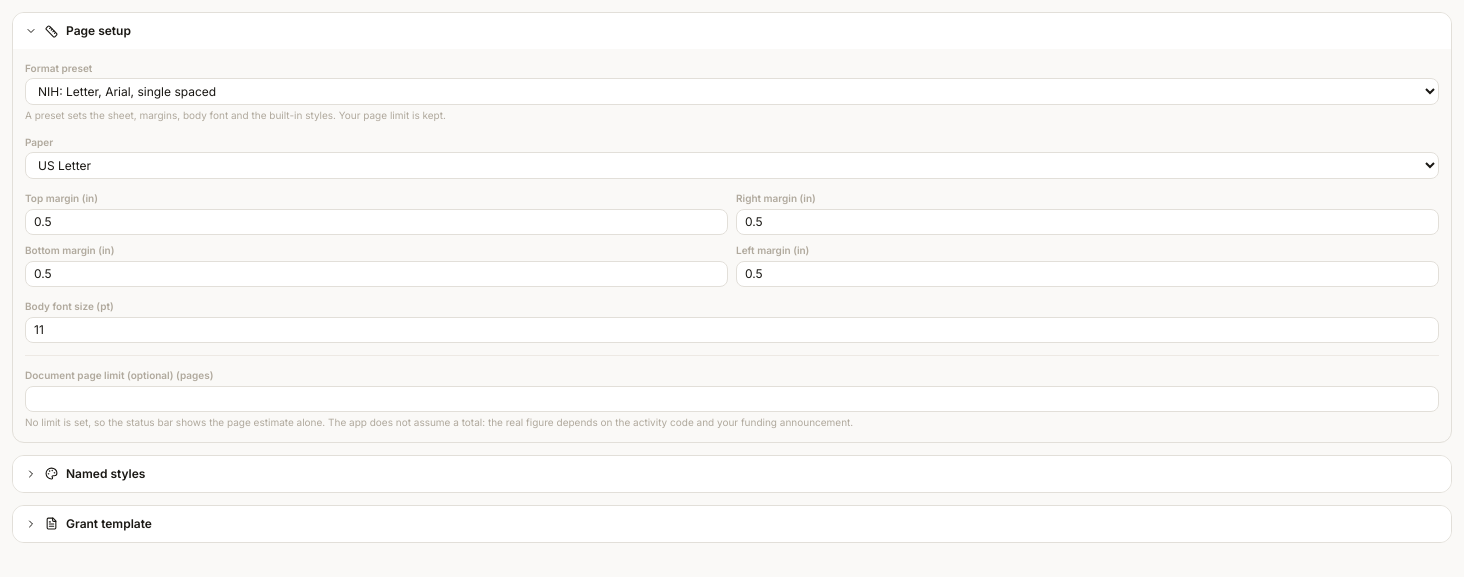
Scenario: FormatPanel › margins and font sizes › puts the committed value back when the box is left with a rejected draft
Replace the text in the number field with test id "control-margin-top" with "-1" at x=376, y=222, box [25,209,728,235]
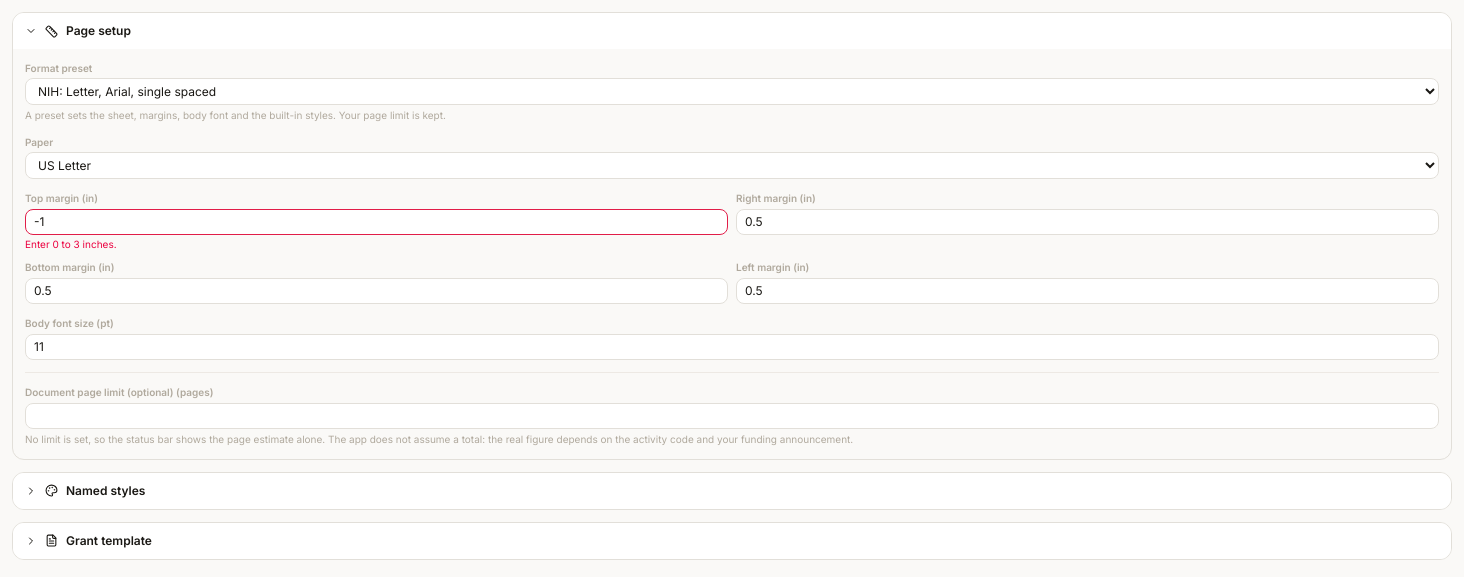
Leave the number field with test id "control-margin-top", box [25,209,728,235]
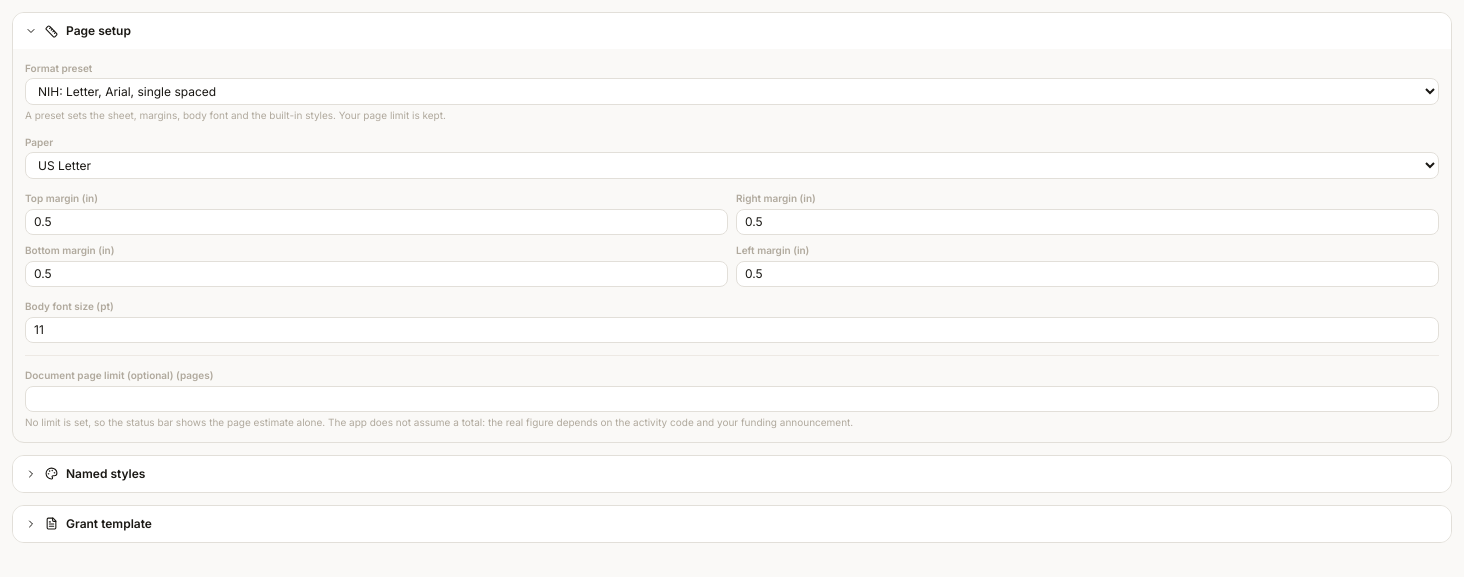
Expected: the number field with test id "control-margin-top" holds "0.5", [25,209,728,235]
Expected: the message with test id "error-margin-top" is gone
